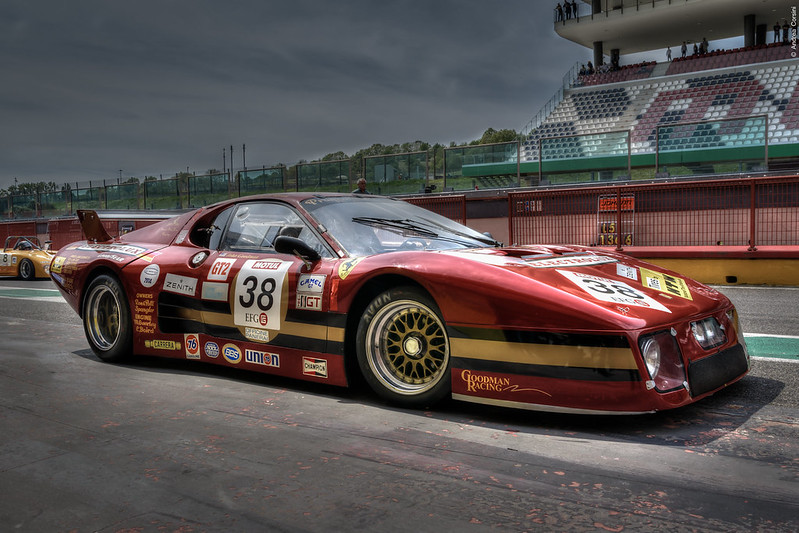car: (49, 175, 758, 420), (2, 222, 65, 283)
